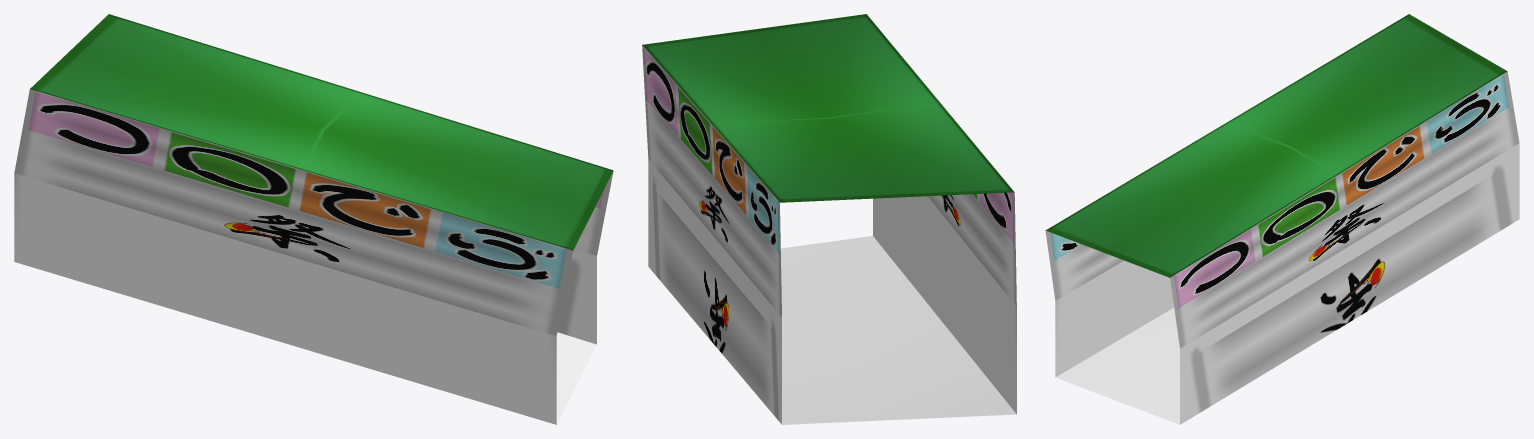
File: CourseAki_Wall_R_7_9.fbx
3 renders of one model, left to right at view 1: azimuth 30°, elevation 25°; view 2: azimuth 150°, elevation 25°; view 3: azimuth 270°, elevation 25°, orthographic. The views are drawn at different scales.
Visible parts, largest first — view 1: polySurface414; view 2: polySurface414; view 3: polySurface414.
Part boxes in pixels (<box>): polySurface414: <box>14,14,613,424</box>; polySurface414: <box>642,14,1016,424</box>; polySurface414: <box>1045,14,1519,424</box>.
Bounding box in the file's own units: 5.36 × 2.98 × 5.62.
Materials: 1 (1 with a texture image).
